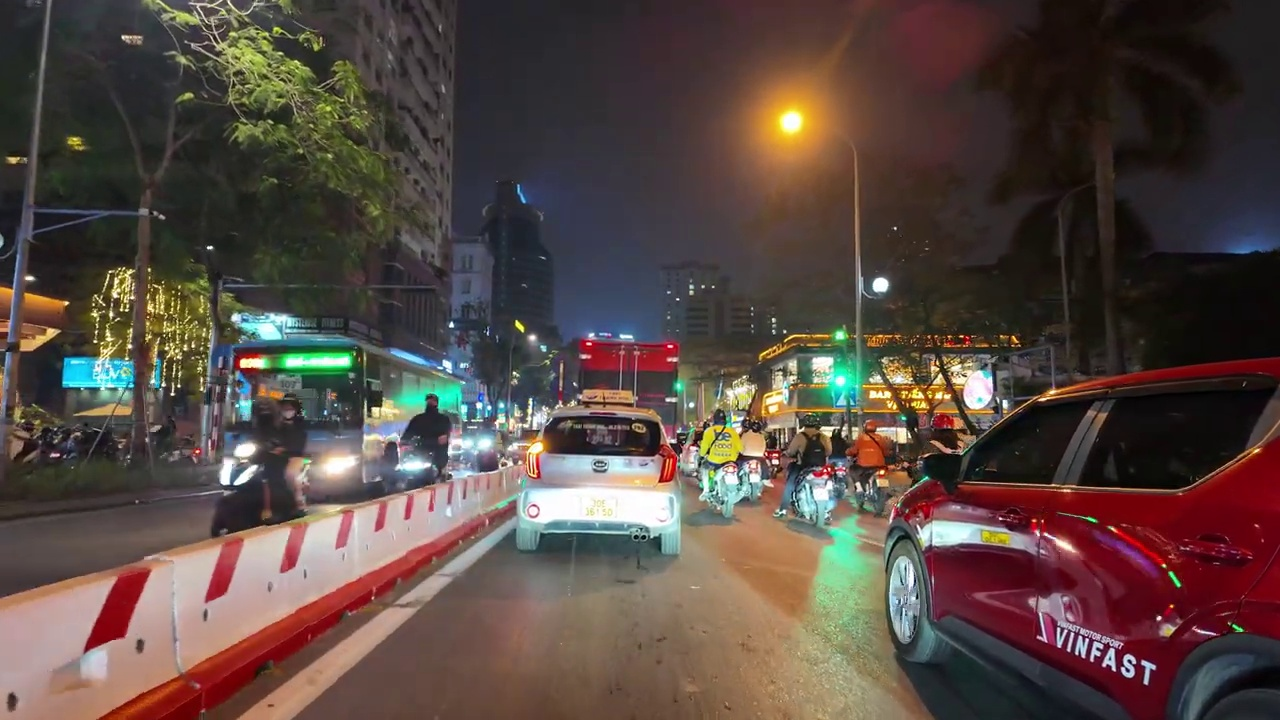acesa: (769, 102, 813, 144), (865, 273, 892, 299)
